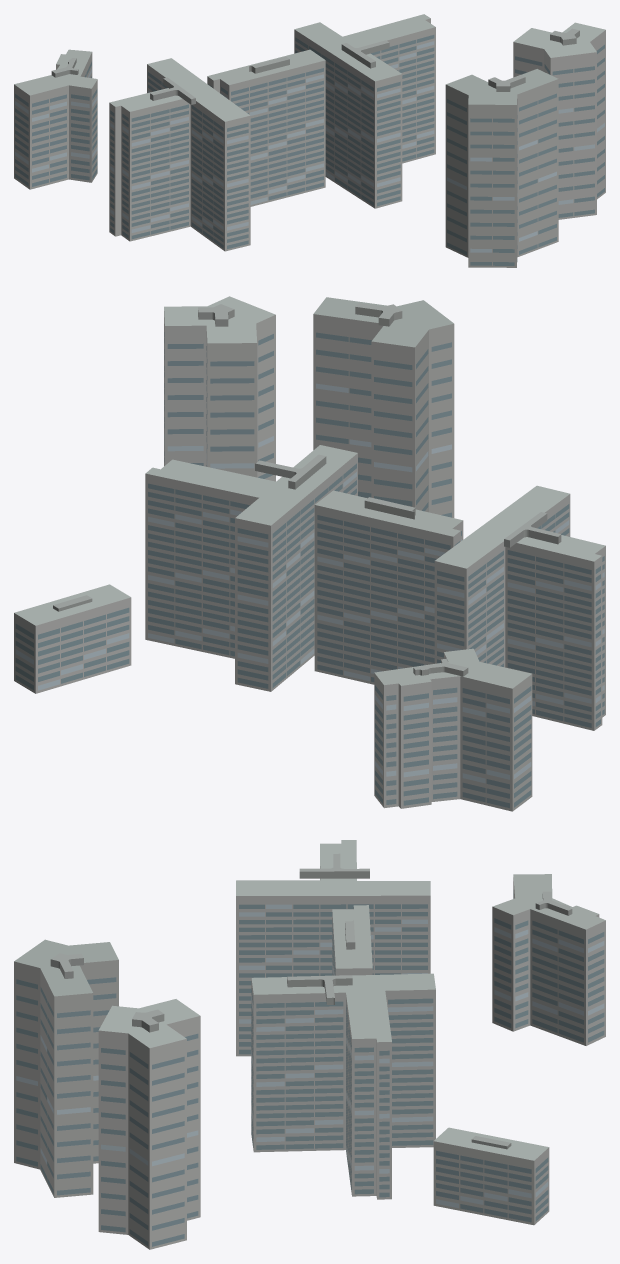
Rendered from apt-a12187403.glb.
The picture shows the model from 3 angles, top to bottom: view 1: azimuth 30°, elevation 25°; view 2: azimuth 150°, elevation 25°; view 3: azimuth 270°, elevation 25°; orthographic projection. The views are drawn at different scales.
Visible parts, largest first — view 1: apt-a12187403; view 2: apt-a12187403; view 3: apt-a12187403.
Part boxes in pixels (left/top/right/bottom): apt-a12187403: left=14, top=14, right=605, bottom=267; apt-a12187403: left=14, top=296, right=605, bottom=811; apt-a12187403: left=14, top=840, right=605, bottom=1249.
Bounding box in the file's own units: 189 × 71 × 183.
